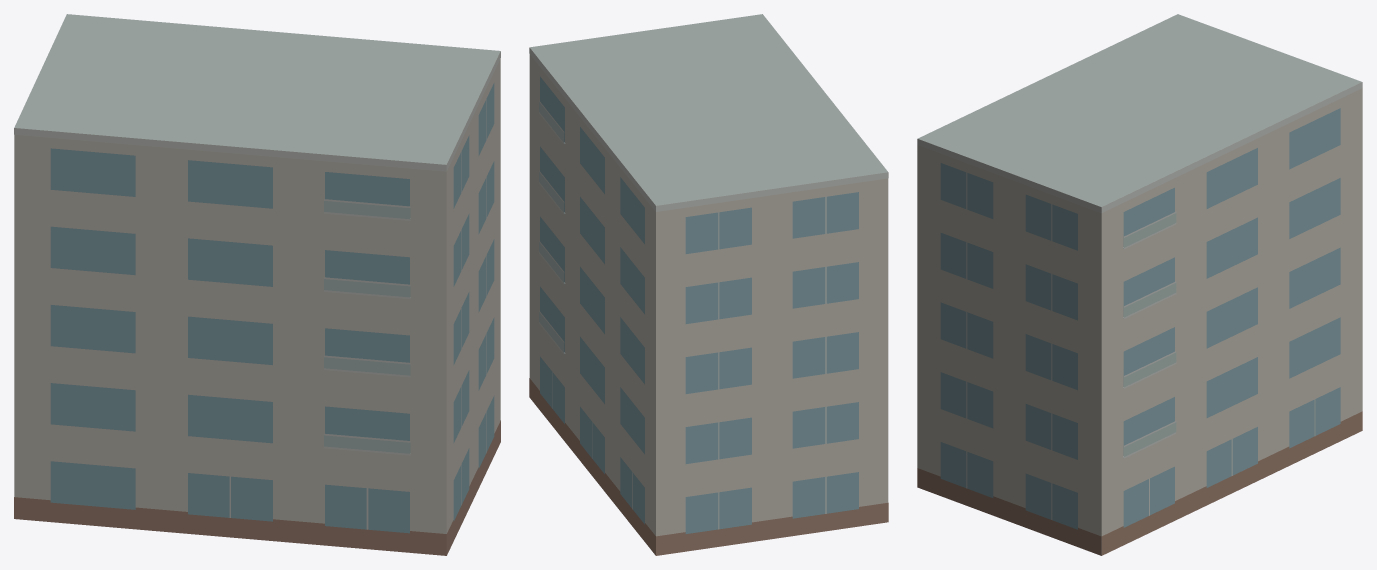
File: survey-upis-32901486.glb
3 views of the same model, side by side, from view 1: azimuth 30°, elevation 25°; view 2: azimuth 150°, elevation 25°; view 3: azimuth 270°, elevation 25° (orthographic). The views are drawn at different scales.
Parts seen in each view (by area): view 1: survey-upis-32901486.tmp; view 2: survey-upis-32901486.tmp; view 3: survey-upis-32901486.tmp.
Boxes of the visible parts, x1,y1,x2,y2 form: survey-upis-32901486.tmp: [14, 14, 500, 555]; survey-upis-32901486.tmp: [529, 14, 888, 555]; survey-upis-32901486.tmp: [917, 14, 1362, 555].
Bounding box in the file's own units: 16.64 × 14 × 16.2.
